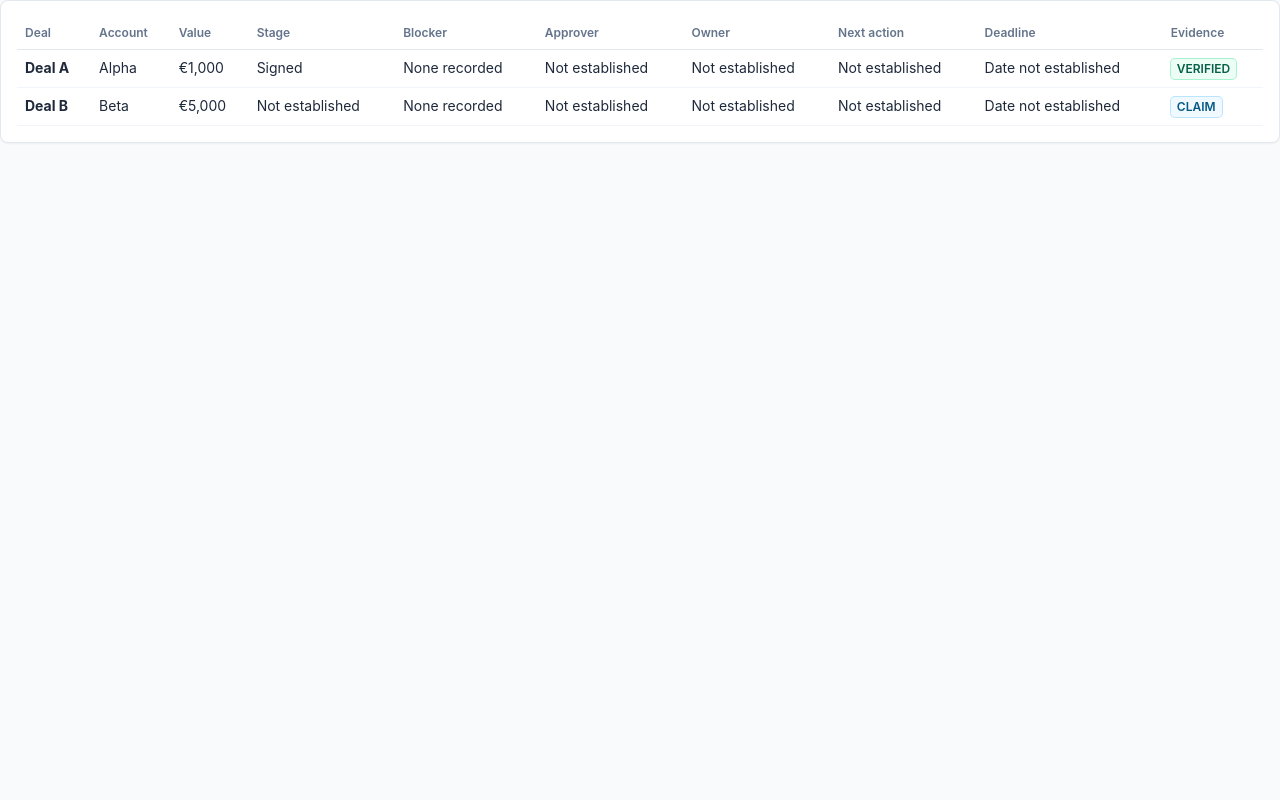
Test: UI › clicking a figure shows source id, status reason and excerpt
Step 1. Click the button "VERIFIED" → (1204, 68), box [1171,58,1236,79]
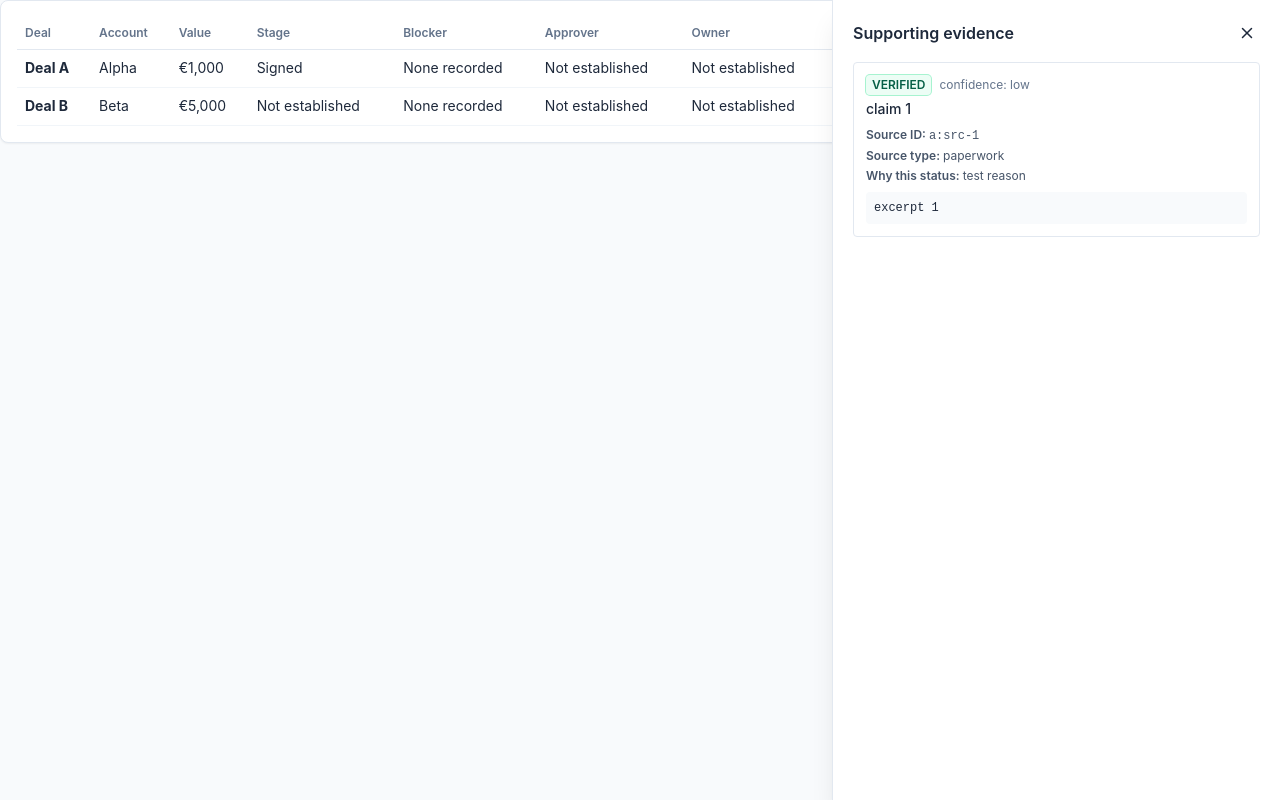
Check: the dialog shows "a:src-1", box [929,129,979,143]
Check: the dialog shows "test reason", box [963,168,1026,183]
Check: the dialog shows "excerpt 1", box [874,201,939,215]
